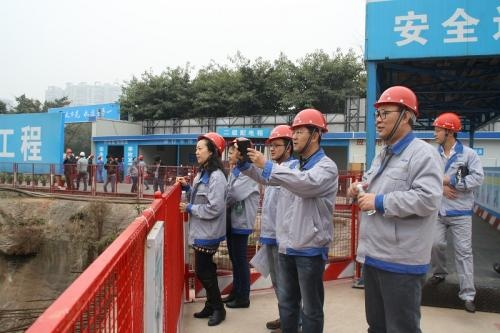red: (372, 82, 420, 144), (288, 104, 329, 159), (192, 129, 227, 168), (431, 111, 462, 152), (265, 123, 295, 160)
